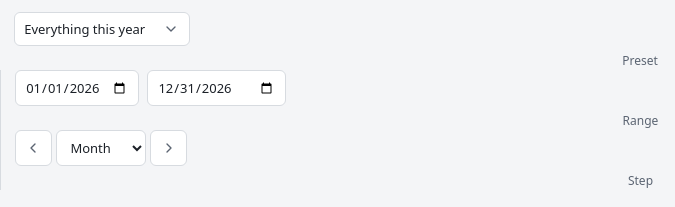
DateRangeFilterComponent › shows the dates each preset resolves to today in the menu
Click the button with class "date-range-filter__trigger": (102, 29) [14,12,190,46]
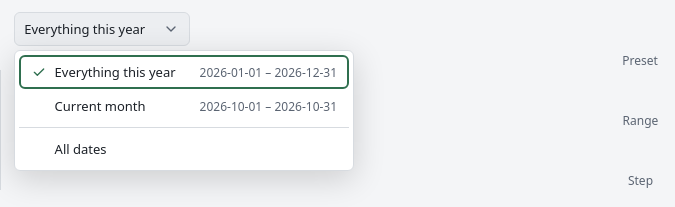
Expected: the menu item with class "date-range-filter__item" shows "2026-01-01 – 2026-12-31", [19,55,349,89]
Expected: the menu item with class "date-range-filter__item" reads "Current month 2026-10-01 – 2026-10-31", [19,89,349,123]
Expected: the menu item with class "date-range-filter__item" reads "All dates", [19,132,349,166]
